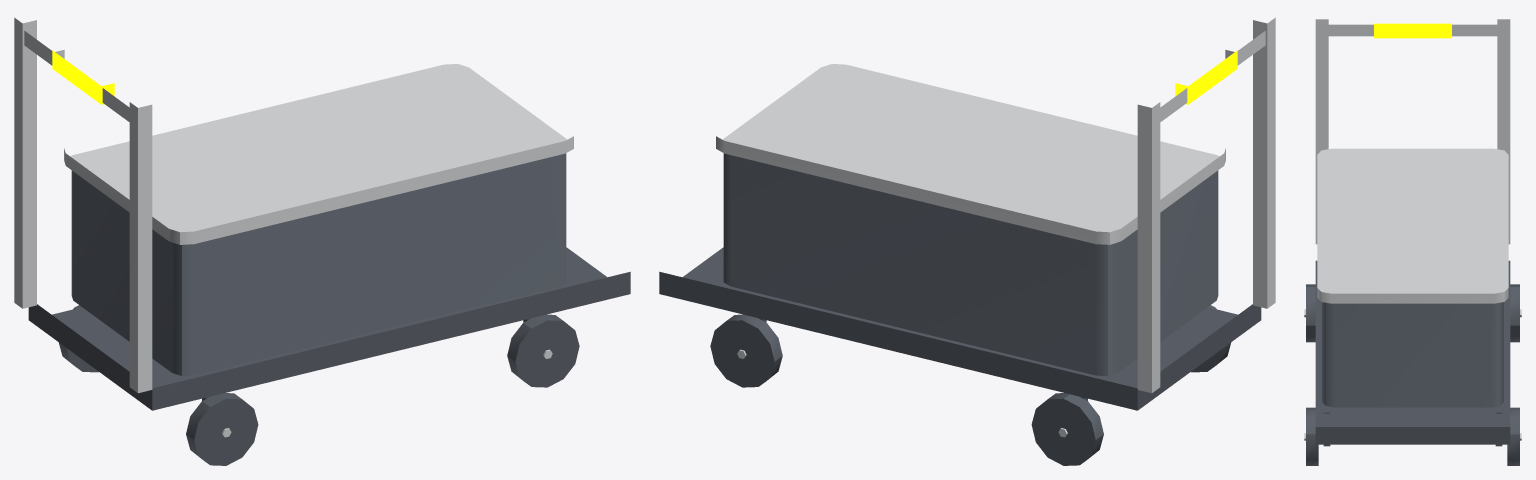
Rendered from ext_service_hand_cart_02.glb.
3 views of the same model, side by side, from view 1: azimuth 30°, elevation 25°; view 2: azimuth 150°, elevation 25°; view 3: azimuth 270°, elevation 25° (orthographic). The views are drawn at different scales.
Parts seen in each view (by area): view 1: Tub, Tub_Rim, Deck, Handle, Wheels, Grip; view 2: Tub, Tub_Rim, Deck, Handle, Wheels, Grip; view 3: Tub_Rim, Tub, Deck, Handle, Wheels, Grip.
Part boxes in pixels (x1,y1,x2,y2): Tub: (71,153,566,376); Tub_Rim: (64,64,573,244); Deck: (28,247,630,410); Handle: (14,17,152,393); Wheels: (58,305,579,465); Grip: (52,50,114,104); Tub: (723,153,1218,376); Tub_Rim: (716,64,1225,244); Deck: (659,247,1261,410); Handle: (1137,17,1275,393); Wheels: (710,305,1231,465); Grip: (1175,50,1237,104); Tub_Rim: (1317,148,1508,303); Tub: (1322,302,1503,407); Deck: (1315,260,1510,444); Handle: (1315,19,1510,244); Wheels: (1306,284,1519,465); Grip: (1374,23,1451,38).
Size of the model in its own units: 1.38 by 1 by 0.67.
